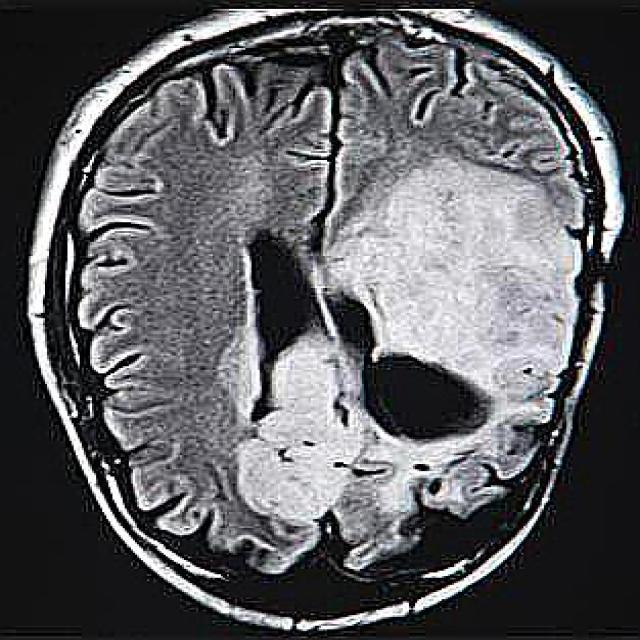Tumor-Cell: (244, 170, 563, 516)
